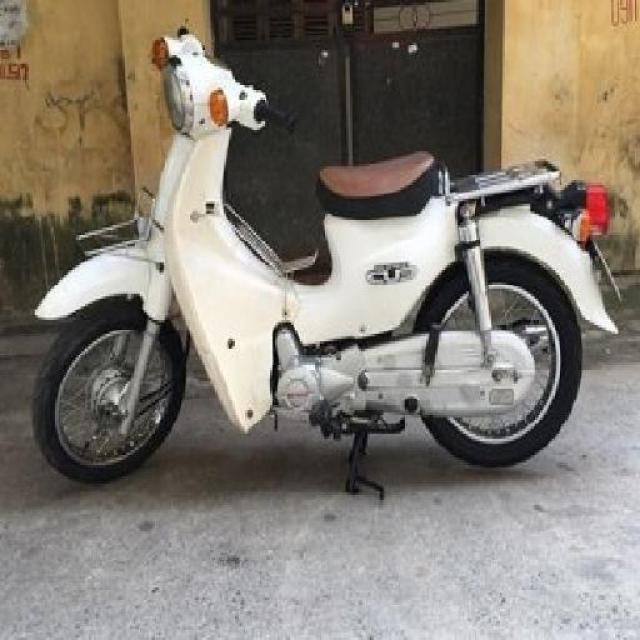All: (32, 21, 620, 500)
Head: (147, 26, 295, 151)
Tail: (520, 150, 609, 244)
